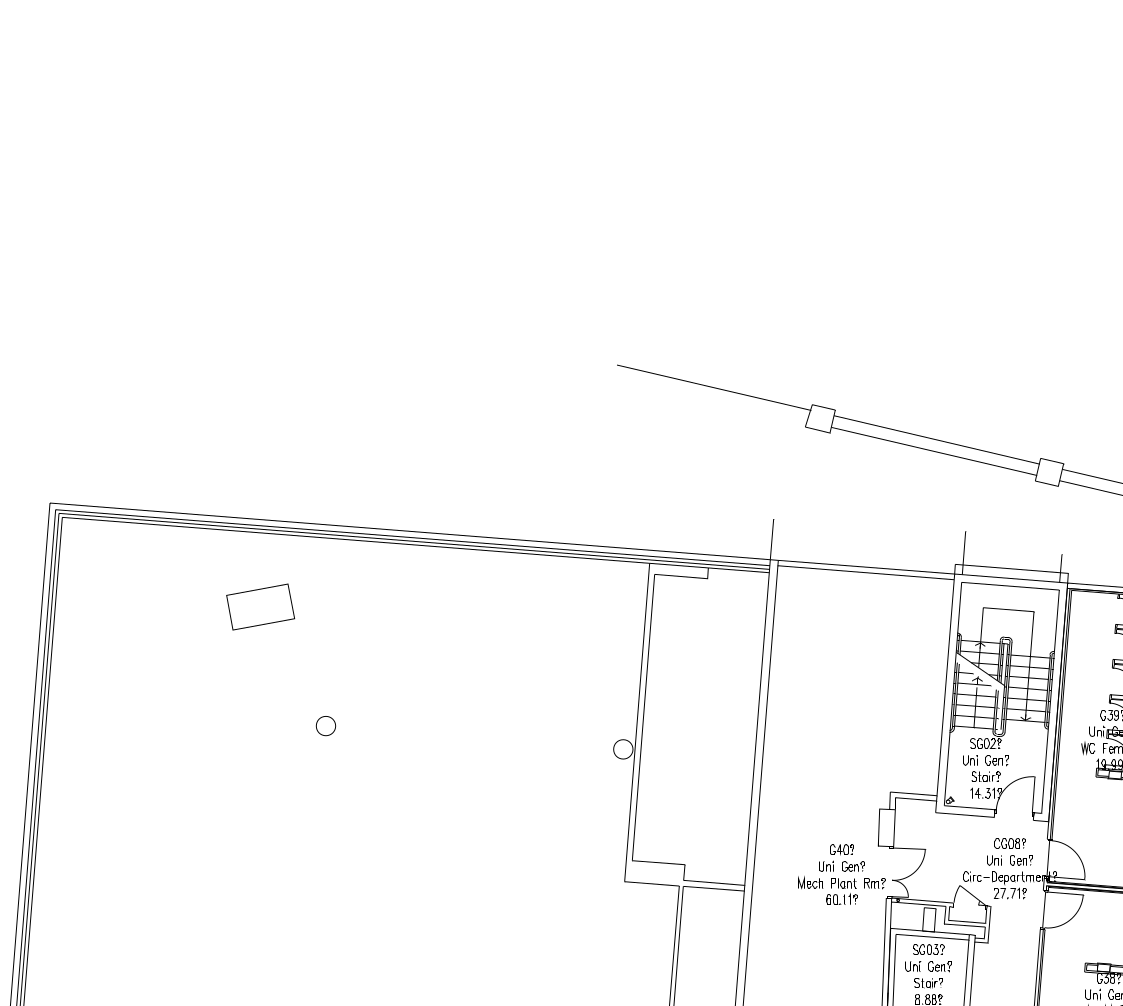door: (888, 839, 932, 898), (1040, 887, 1084, 937), (992, 771, 1037, 819), (1048, 836, 1088, 882), (951, 876, 993, 910)
